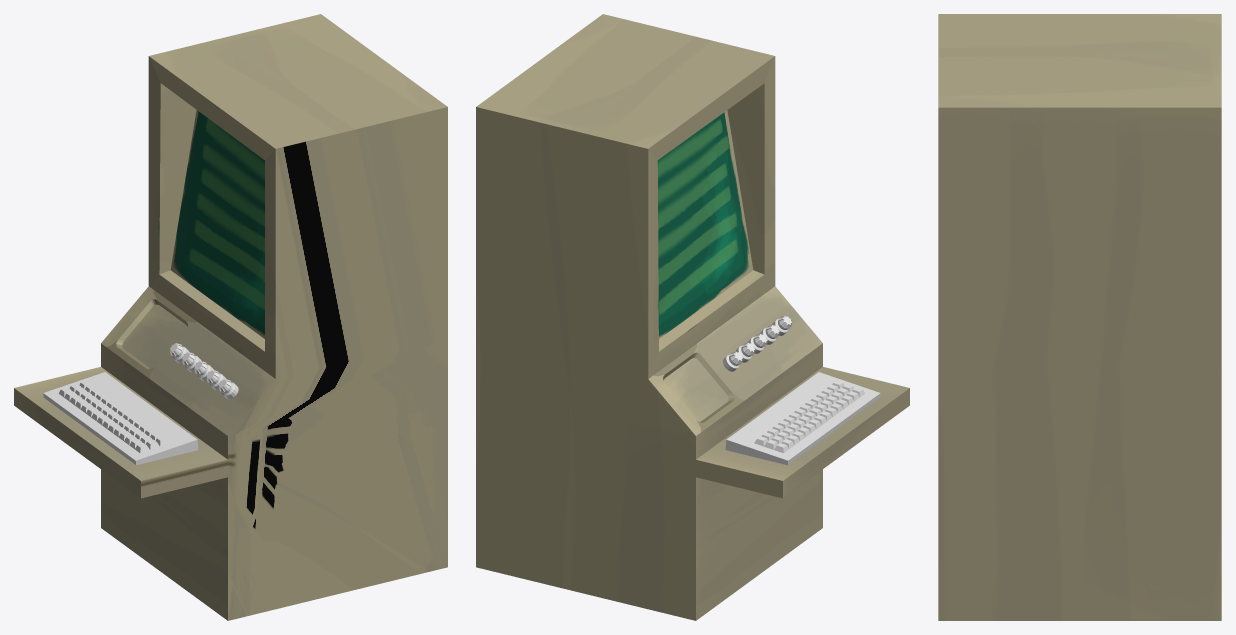
File: Computer-2.glb
3 renders of one model, left to right at view 1: azimuth 30°, elevation 25°; view 2: azimuth 150°, elevation 25°; view 3: azimuth 270°, elevation 25°, orthographic. The views are drawn at different scales.
Visible parts, largest first — view 1: Computer-1-col, Computer-2-MainMonitor, Keyboard, Computer-2-SmallScreen-1, Cylinder.288; view 2: Computer-1-col, Computer-2-MainMonitor, Keyboard, Computer-2-SmallScreen-1, Cylinder.288; view 3: Computer-1-col.
Boxes of the visible parts, bbox=[...] form: Computer-1-col: bbox=[14, 14, 447, 620]; Computer-2-MainMonitor: bbox=[170, 110, 264, 338]; Keyboard: bbox=[43, 372, 198, 465]; Computer-2-SmallScreen-1: bbox=[122, 304, 186, 368]; Cylinder.288: bbox=[169, 343, 238, 398]; Computer-1-col: bbox=[476, 14, 909, 620]; Computer-2-MainMonitor: bbox=[657, 110, 753, 338]; Keyboard: bbox=[725, 372, 880, 465]; Computer-2-SmallScreen-1: bbox=[664, 358, 728, 421]; Cylinder.288: bbox=[723, 316, 791, 371]; Computer-1-col: bbox=[938, 14, 1221, 620].
Bounding box in the file's own units: 0.6977 × 1 × 0.5.
1 material, 1 textured.
